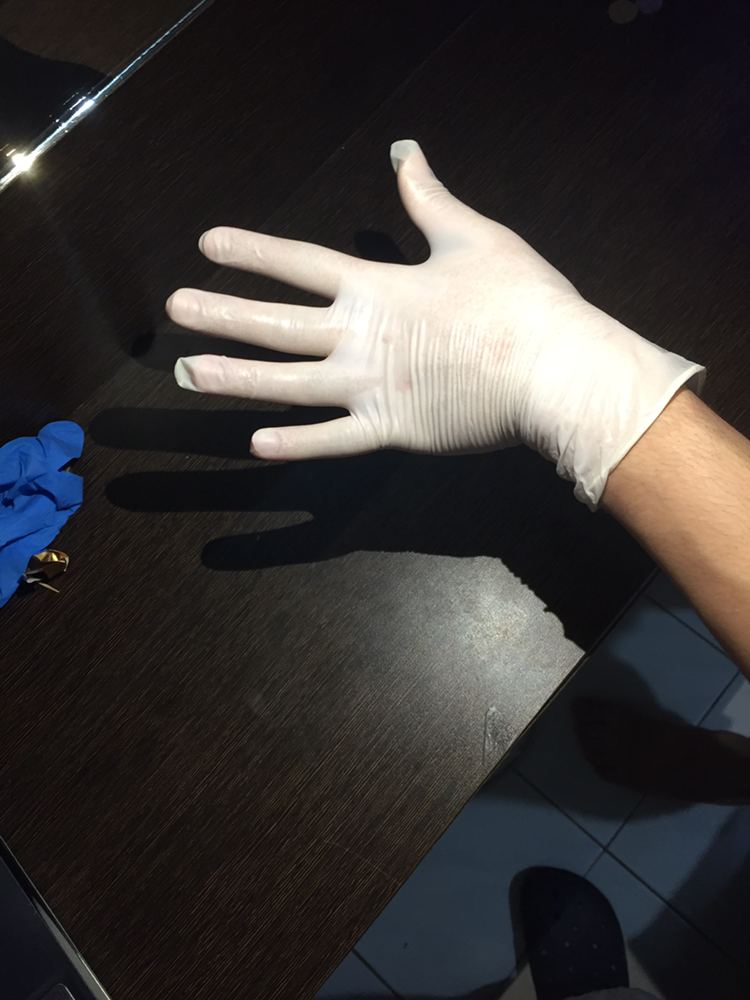glove: (147, 112, 594, 540)
